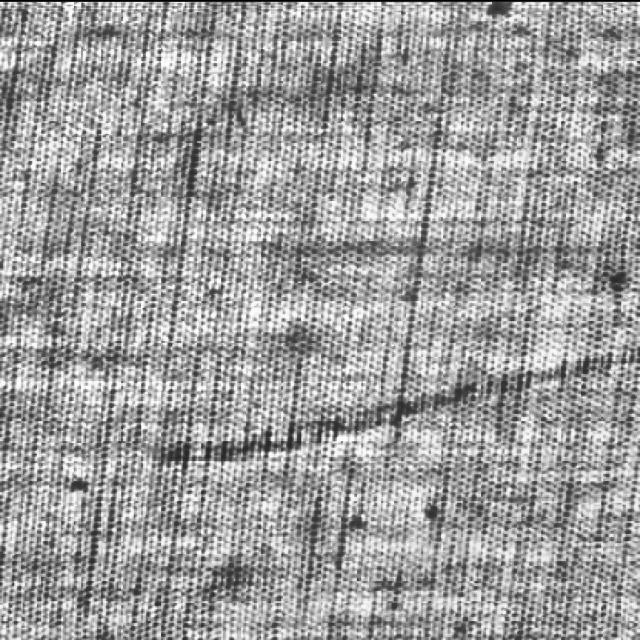oil_spot: (123, 335, 640, 477)
